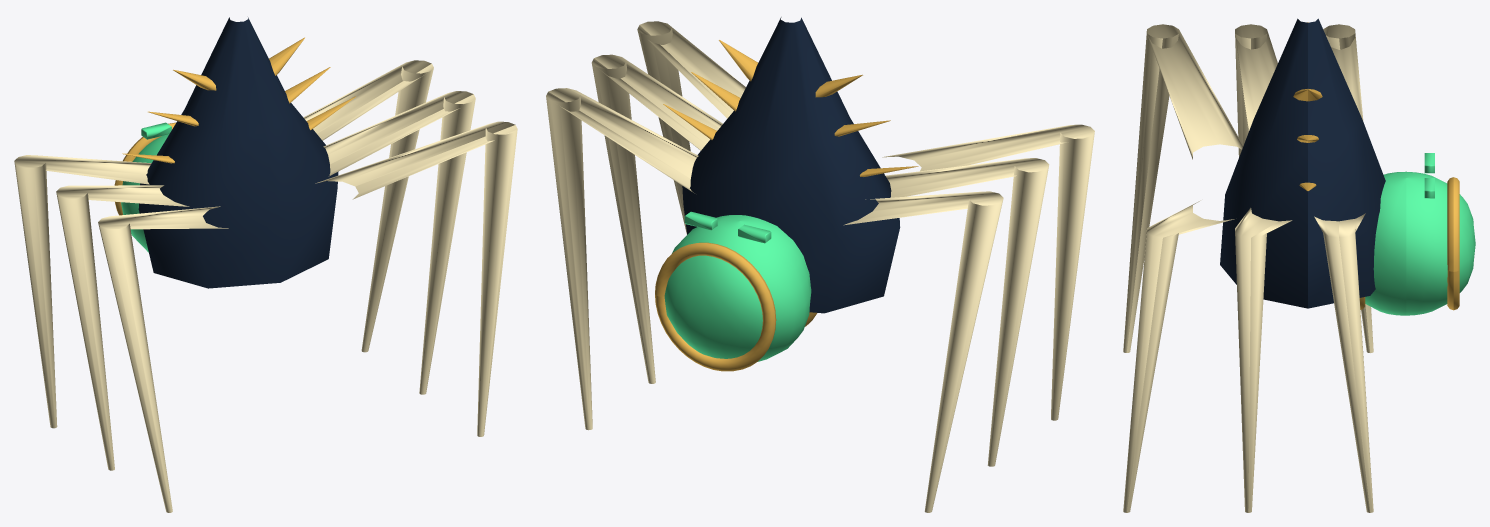
File: creature_0_5.glb
The picture shows the model from 3 angles, left to right: view 1: azimuth 30°, elevation 25°; view 2: azimuth 150°, elevation 25°; view 3: azimuth 270°, elevation 25°; orthographic projection. The views are drawn at different scales.
Visible parts, largest first — view 1: Stilt (×6), SpireShell, GlassCore; view 2: Stilt (×6), SpireShell, GlassCore, GiltOrbRim; view 3: Stilt (×6), SpireShell, GlassCore, GiltOrbRim.
Part boxes in pixels (x1,y1,x2,y2): Stilt (×6): (14,60,517,512); SpireShell: (138,17,338,288); GlassCore: (121,134,168,252); Stilt (×6): (546,21,1094,512); SpireShell: (682,17,900,313); GlassCore: (664,215,811,361); GiltOrbRim: (655,242,776,371); Stilt (×6): (1123,24,1373,512); SpireShell: (1220,18,1385,308); GlassCore: (1365,171,1475,315); GiltOrbRim: (1447,177,1459,310).
Bounding box in the file's own units: 1.95 × 1.76 × 1.36.
